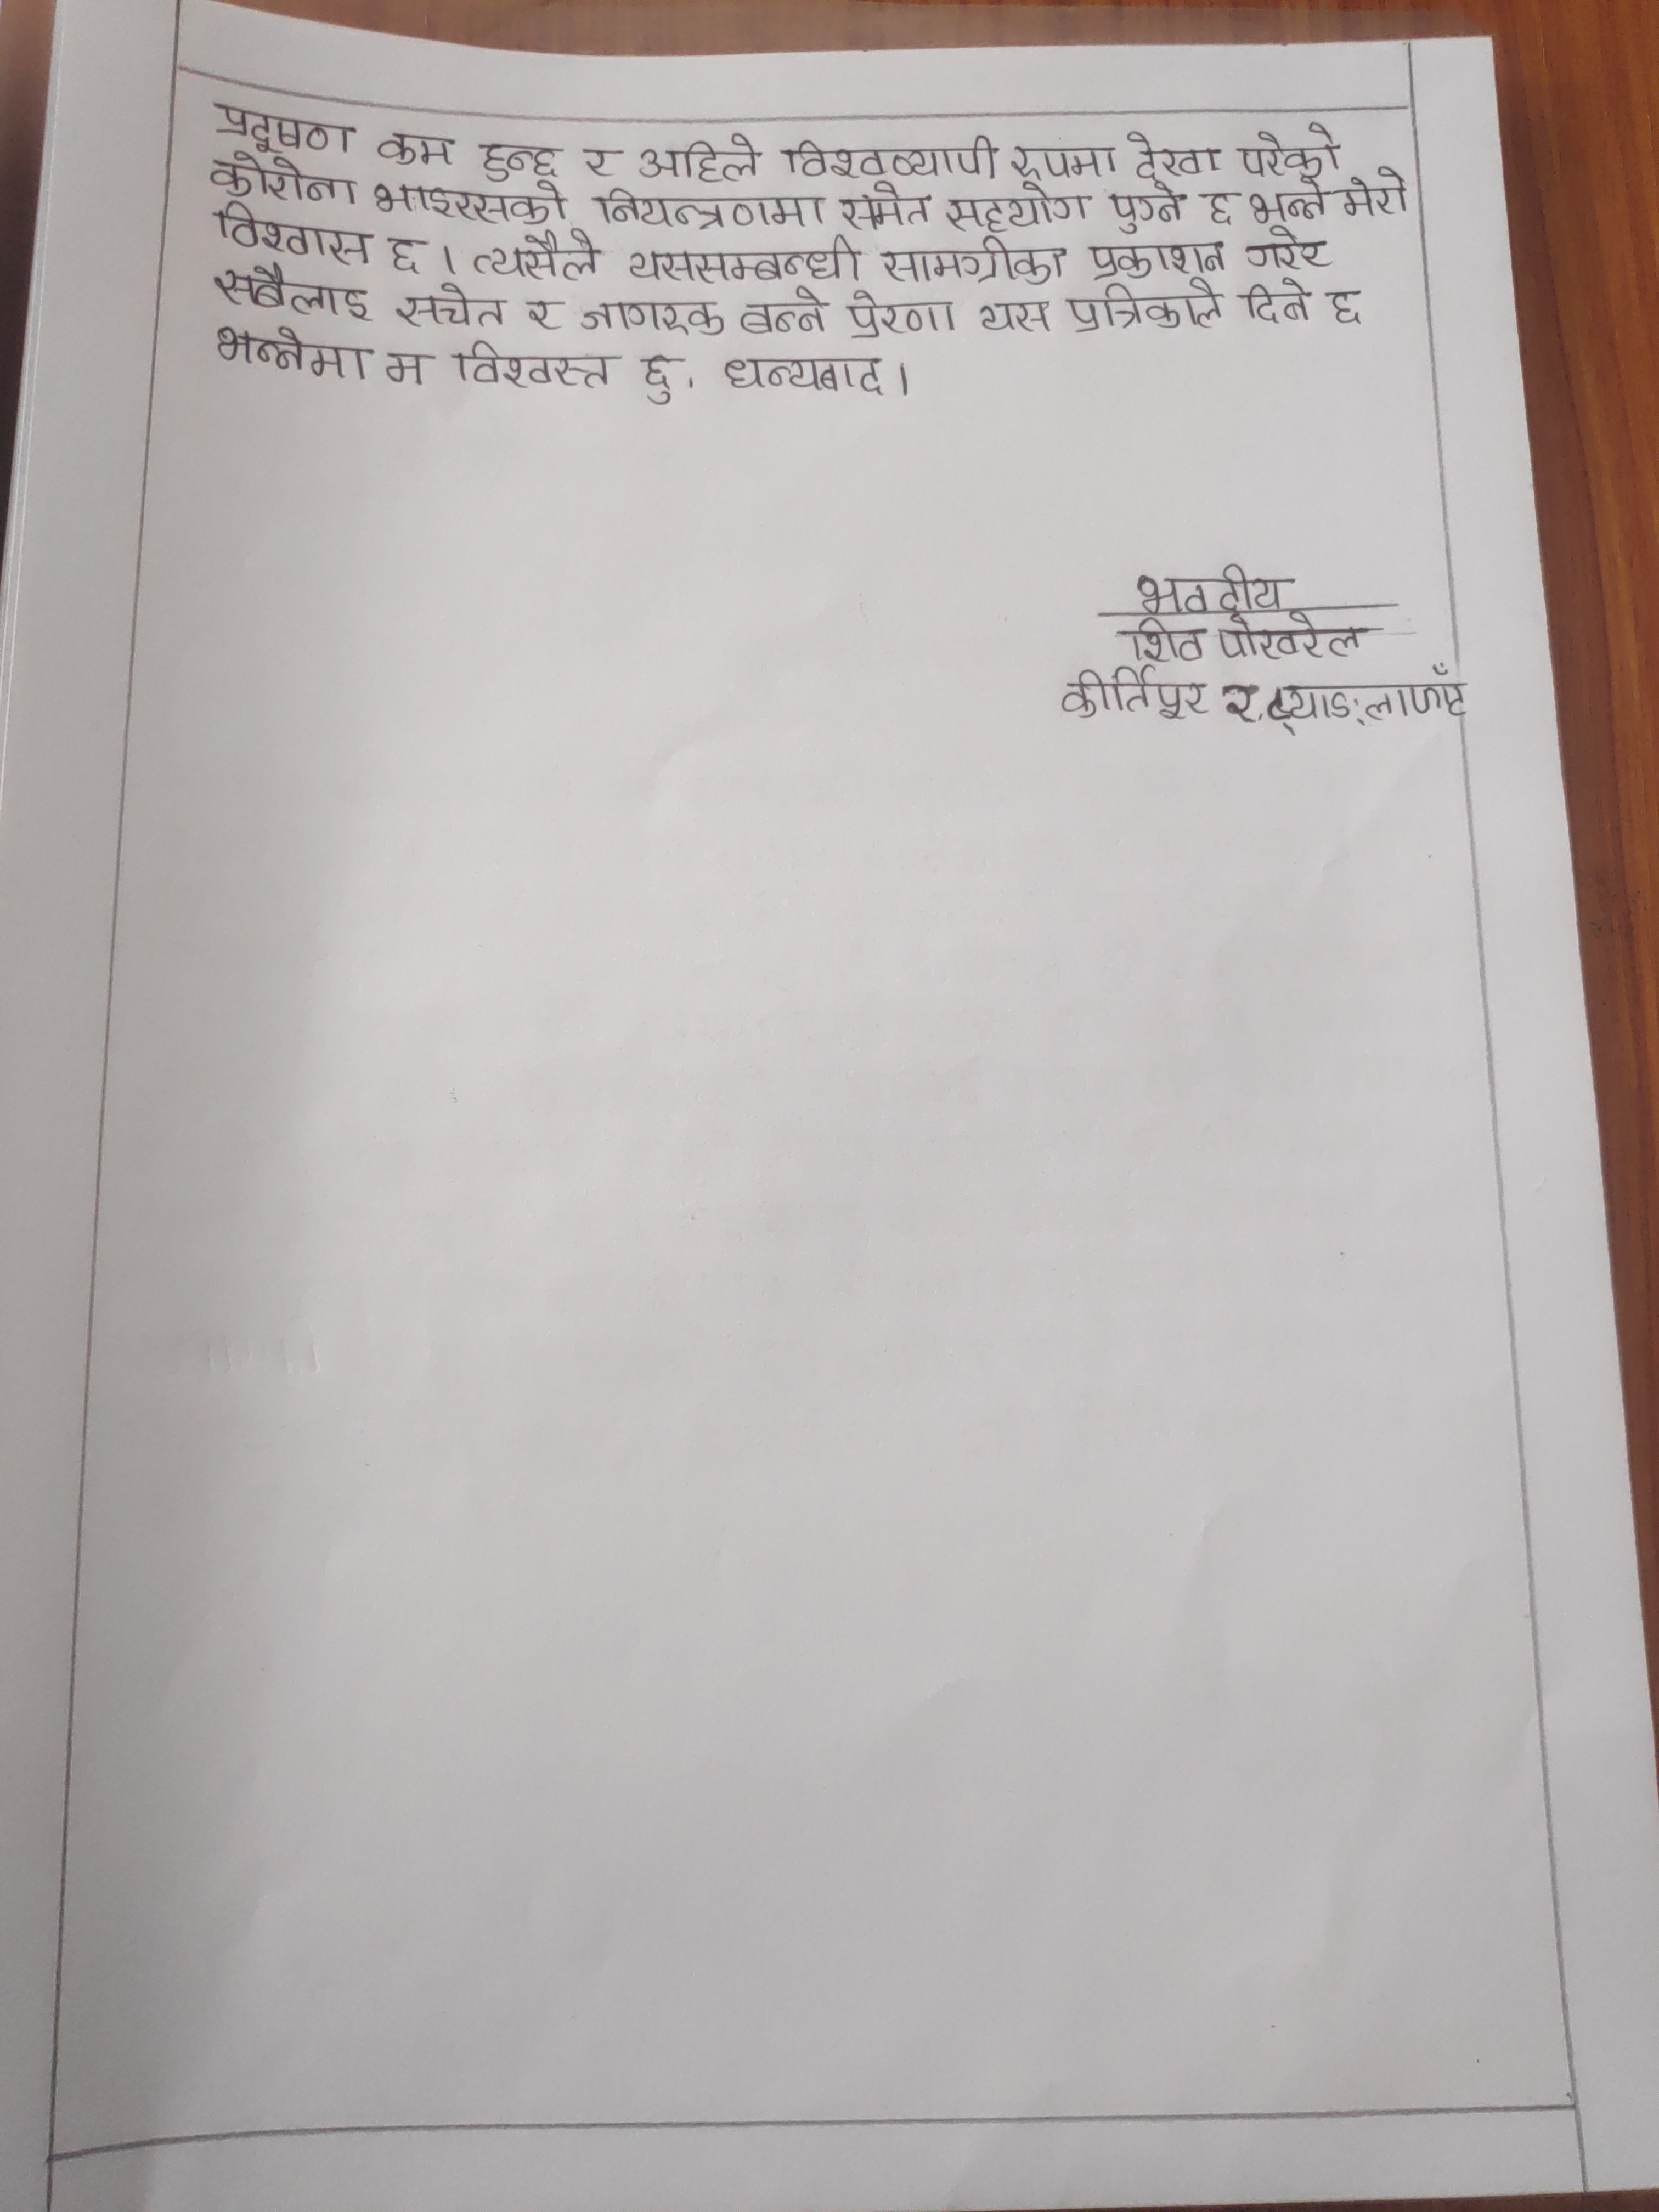text: (1263, 665, 1469, 730), (781, 134, 1000, 186), (627, 237, 870, 284), (369, 172, 570, 228), (591, 181, 830, 226), (218, 202, 373, 270), (1054, 275, 1227, 334), (207, 326, 380, 383), (1126, 557, 1298, 613), (1054, 662, 1213, 721), (877, 237, 1068, 286), (216, 265, 375, 322), (206, 150, 361, 207), (455, 338, 617, 392), (723, 350, 890, 401), (211, 98, 361, 152), (1211, 611, 1373, 660), (469, 228, 606, 282), (941, 183, 1093, 232), (634, 127, 765, 181), (1084, 237, 1234, 282), (836, 291, 962, 343), (1239, 120, 1344, 181), (1006, 136, 1124, 185), (579, 298, 727, 336), (394, 282, 509, 331), (1124, 125, 1223, 181), (840, 179, 936, 228), (737, 286, 830, 334), (1107, 181, 1188, 235), (477, 132, 565, 183), (1239, 275, 1317, 331), (1241, 226, 1333, 273), (1119, 618, 1209, 665), (1246, 176, 1330, 226), (373, 124, 464, 169), (974, 294, 1058, 331), (636, 352, 678, 411), (383, 228, 427, 280), (380, 347, 432, 390), (1195, 183, 1241, 232), (575, 139, 626, 181), (1338, 178, 1377, 230), (1223, 676, 1262, 728), (525, 293, 565, 338), (1326, 287, 1366, 333)
